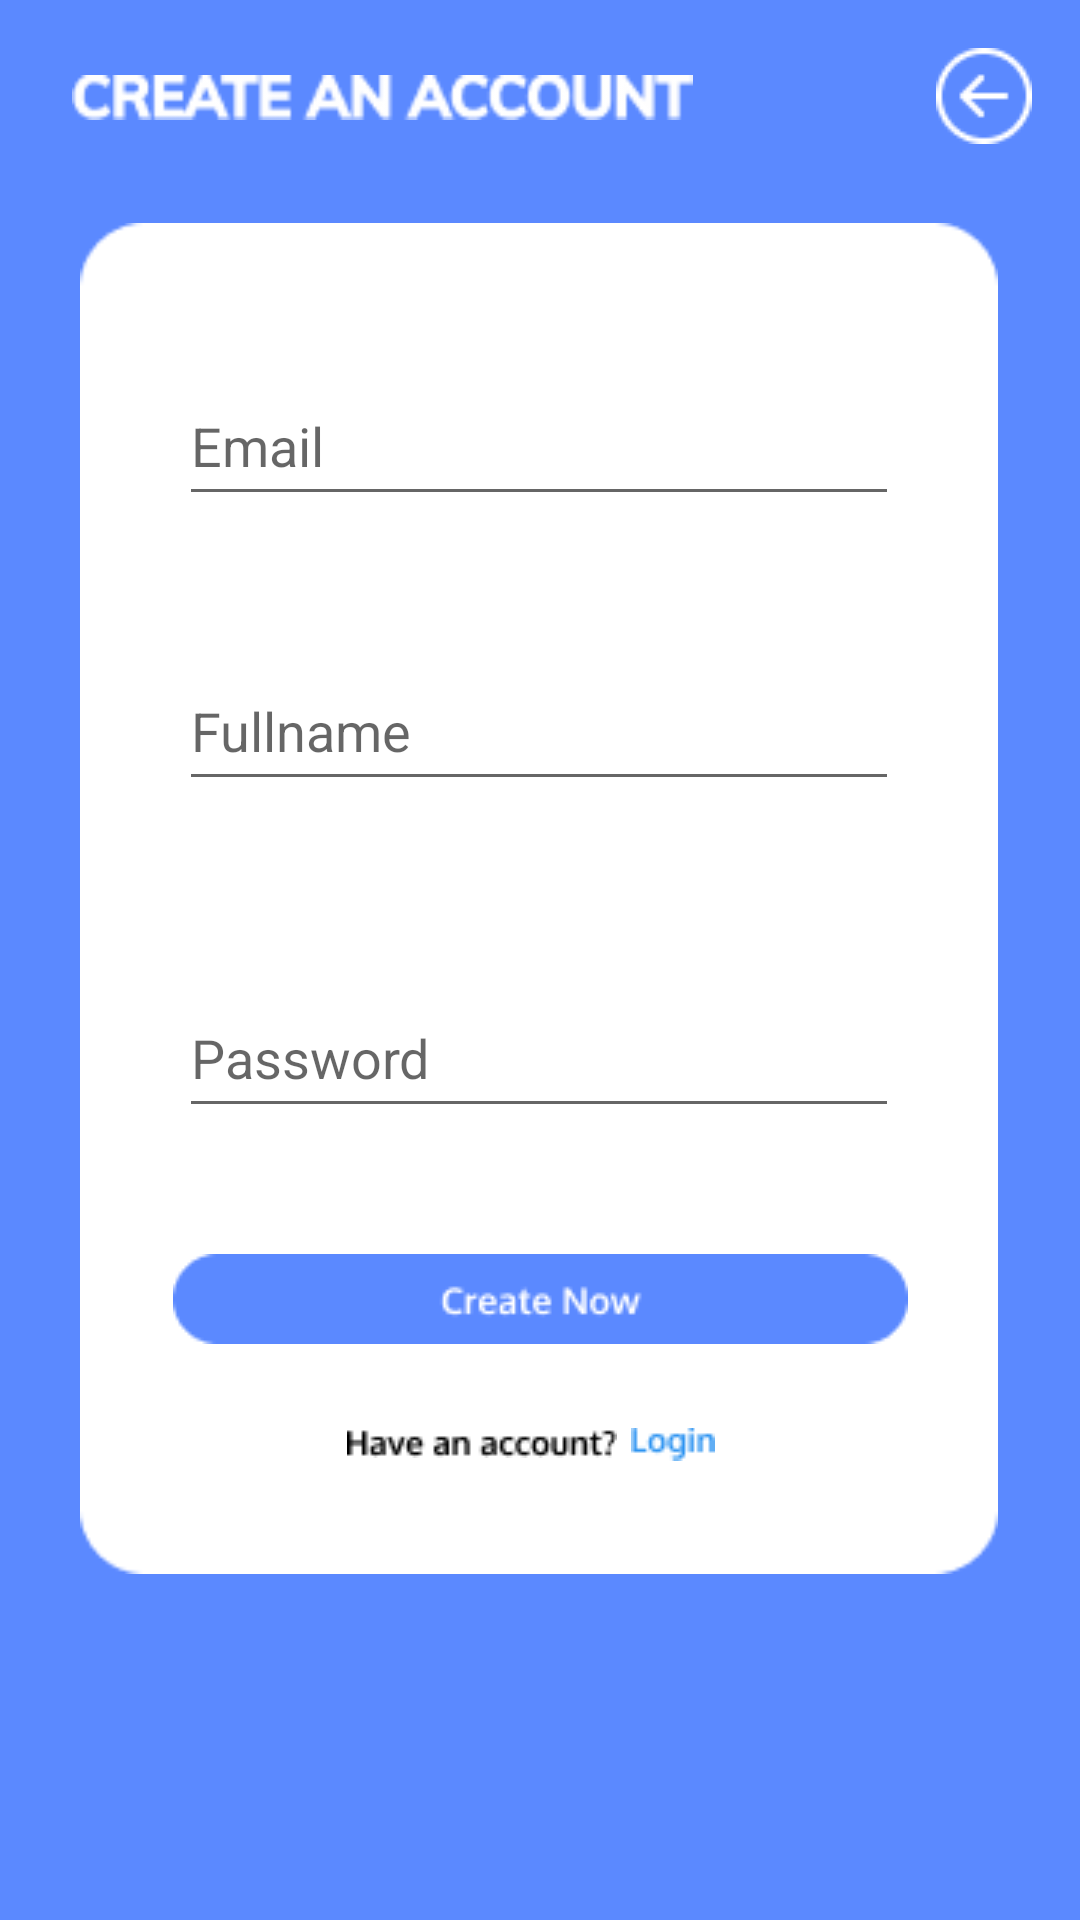

Screen size 1080x1920. Icon name, then its box in pixels as {"x1": x1, "y1": y1, "x2": x2, "y2": y2}:
arrow: {"x1": 936, "y1": 48, "x2": 1032, "y2": 144}
